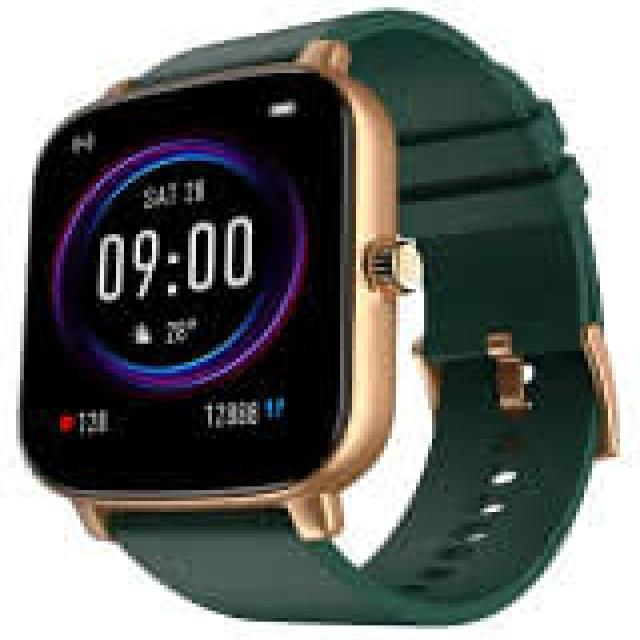objects: (21, 3, 604, 624), (44, 121, 46, 130)
